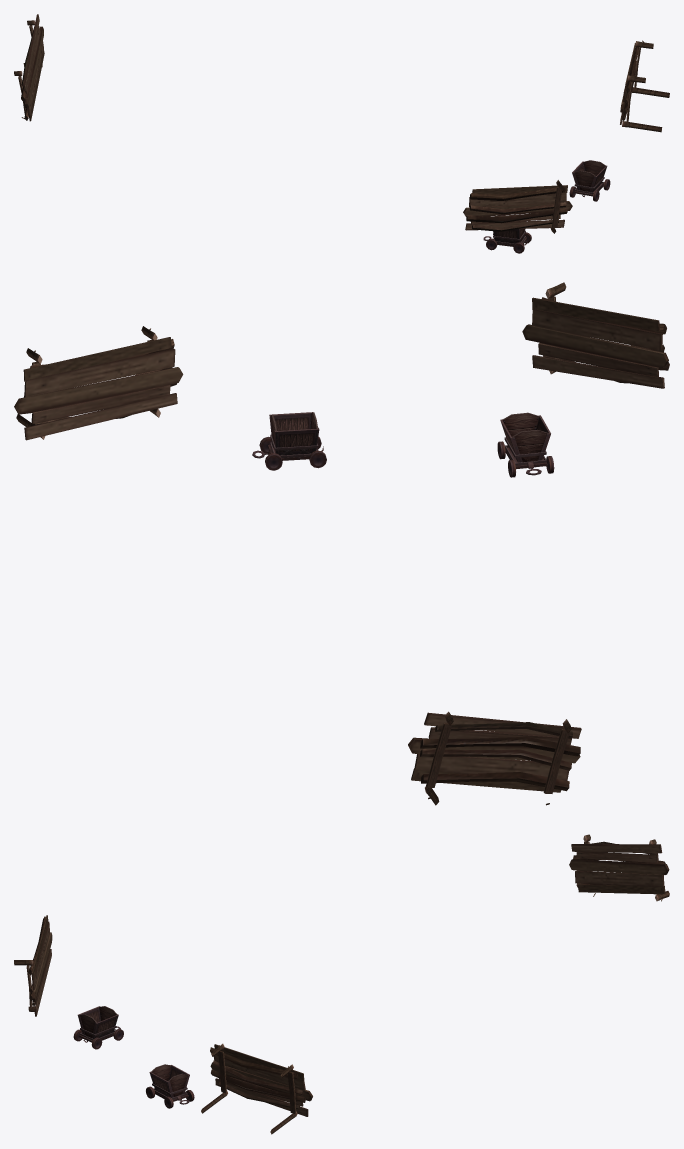
Rendered from area_03_shuijing.FBX.
3 views of the same model, one above another, from view 1: azimuth 30°, elevation 25°; view 2: azimuth 150°, elevation 25°; view 3: azimuth 270°, elevation 25° (orthographic). The views are drawn at different scales.
Visible parts, largest first — view 1: area_03_shuijing; view 2: area_03_shuijing; view 3: area_03_shuijing.
Boxes of the visible parts, x1,y1,x2,y2 form: area_03_shuijing: (14, 14, 669, 253); area_03_shuijing: (14, 282, 669, 805); area_03_shuijing: (14, 834, 669, 1134).
Bounding box in the file's own units: 3661 × 619 × 3909.
